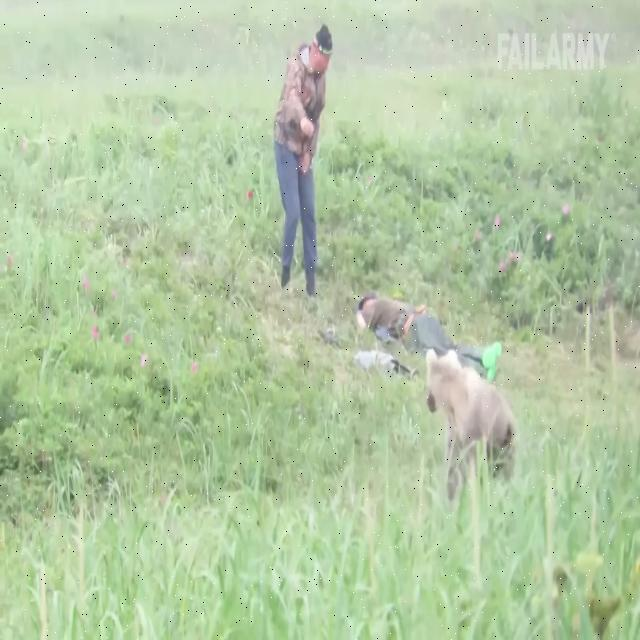person: (274, 26, 334, 302), (357, 292, 501, 376)
